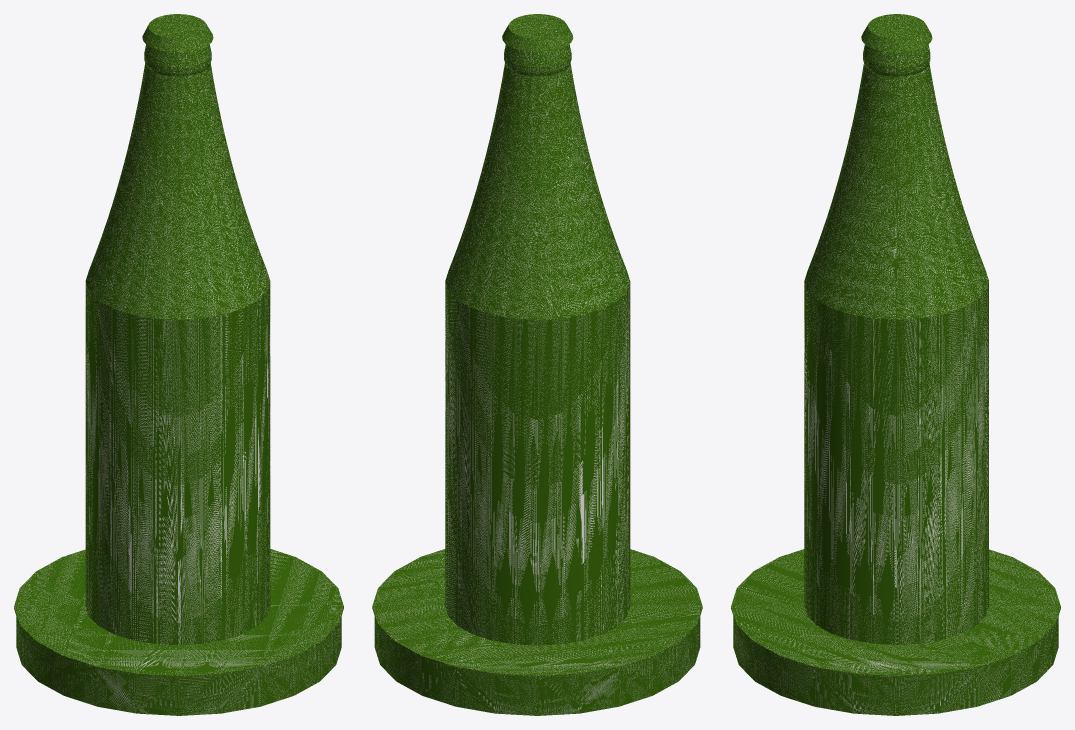
3 views of the same model, side by side, from view 1: azimuth 30°, elevation 25°; view 2: azimuth 150°, elevation 25°; view 3: azimuth 270°, elevation 25° (orthographic).
Visible parts, largest first — view 1: mesh1_mesh1-geometry, mesh2_mesh2-geometry, mesh3_mesh3-geometry; view 2: mesh1_mesh1-geometry, mesh2_mesh2-geometry, mesh3_mesh3-geometry; view 3: mesh1_mesh1-geometry, mesh2_mesh2-geometry, mesh3_mesh3-geometry.
Part boxes in pixels (bbox=[...]): mesh1_mesh1-geometry: bbox=[85, 44, 270, 644]; mesh2_mesh2-geometry: bbox=[14, 549, 343, 715]; mesh3_mesh3-geometry: bbox=[142, 14, 213, 52]; mesh1_mesh1-geometry: bbox=[445, 44, 630, 645]; mesh2_mesh2-geometry: bbox=[372, 549, 702, 715]; mesh3_mesh3-geometry: bbox=[502, 14, 573, 52]; mesh1_mesh1-geometry: bbox=[804, 44, 988, 644]; mesh2_mesh2-geometry: bbox=[731, 549, 1060, 715]; mesh3_mesh3-geometry: bbox=[861, 14, 932, 52].
Size of the model in its own units: 0.3981 by 0.8265 by 0.3981.
